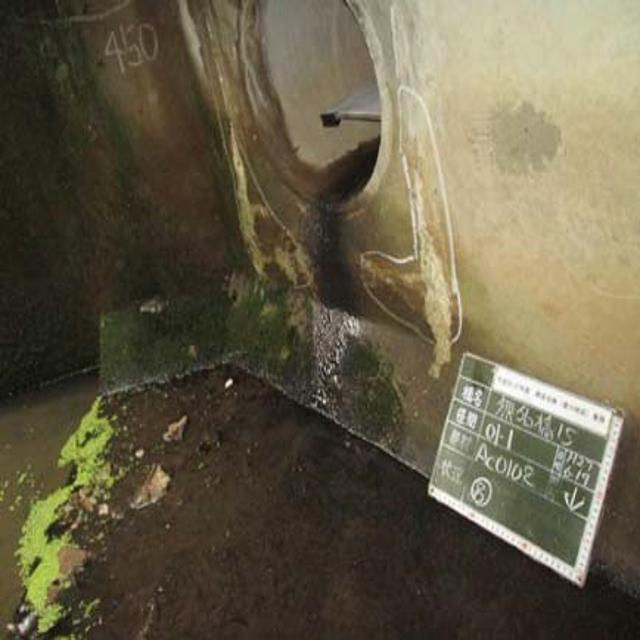freelime: (387, 162, 472, 377)
